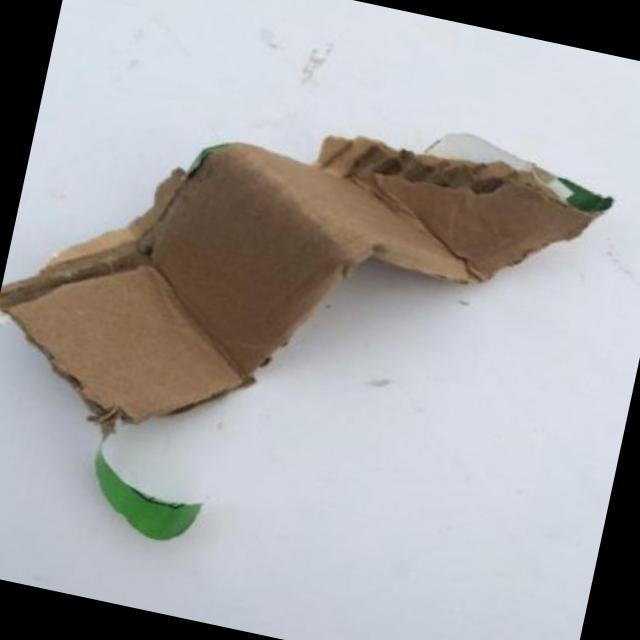cardboard paper: (0, 136, 611, 424)
